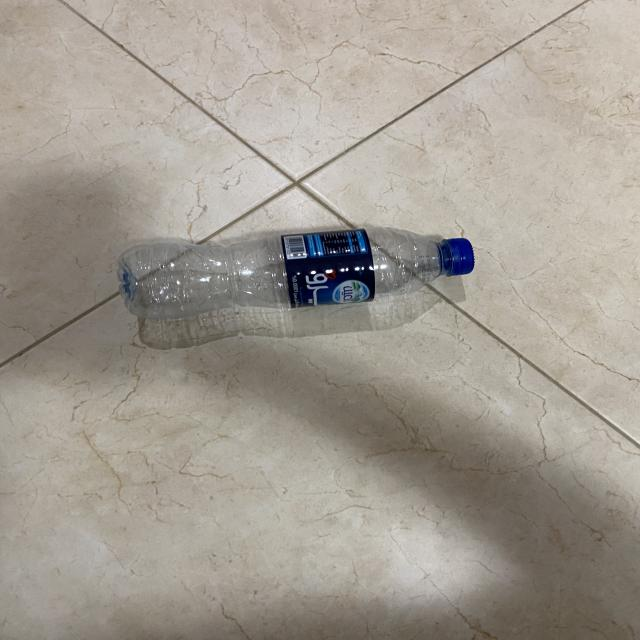bottle: (119, 222, 478, 324)
